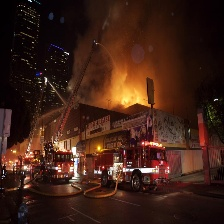fire: (120, 92, 149, 106)
smoke: (80, 1, 184, 76)
